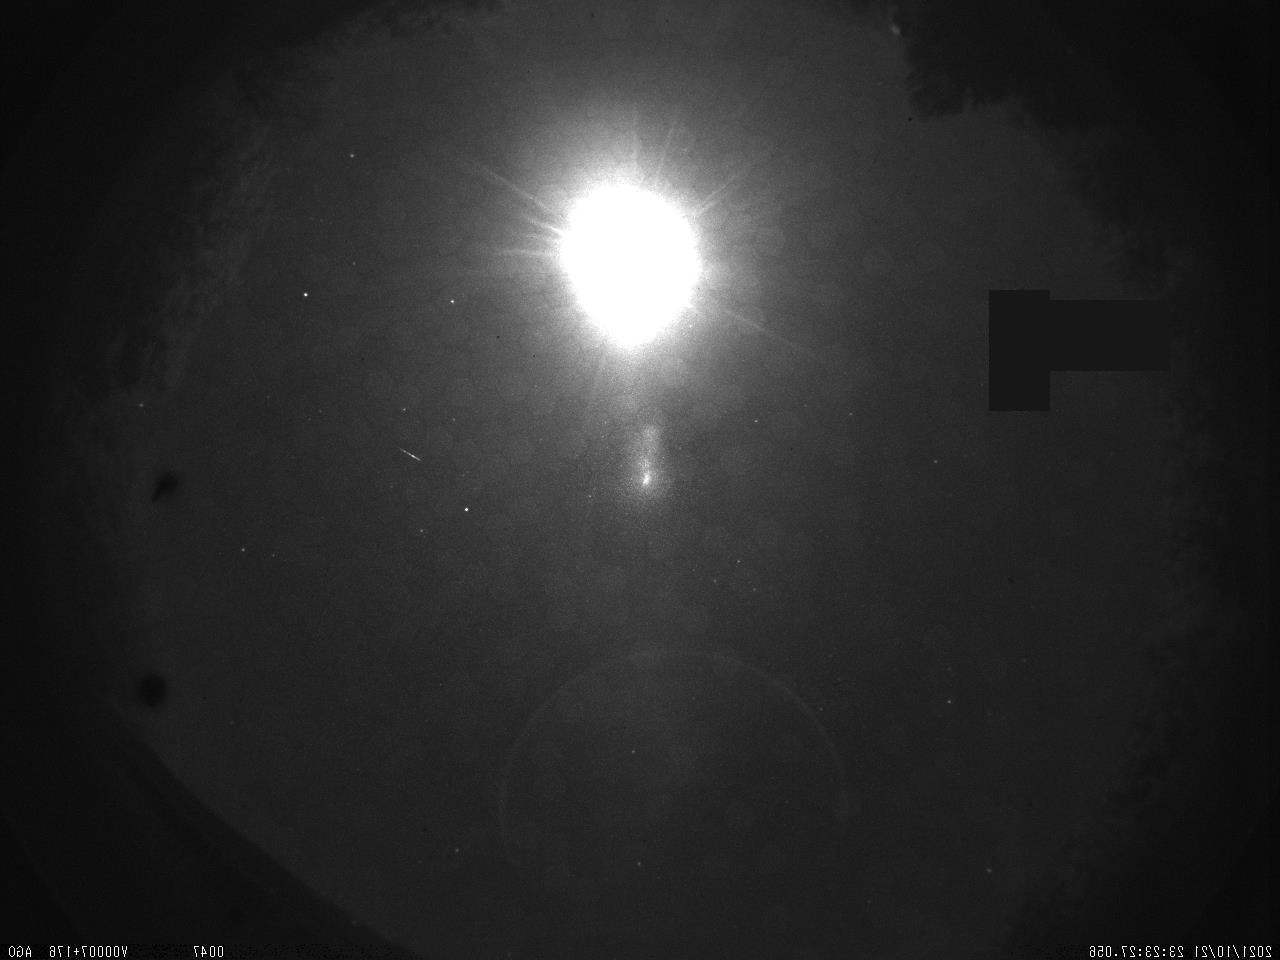meteor: (394, 441, 428, 468)
